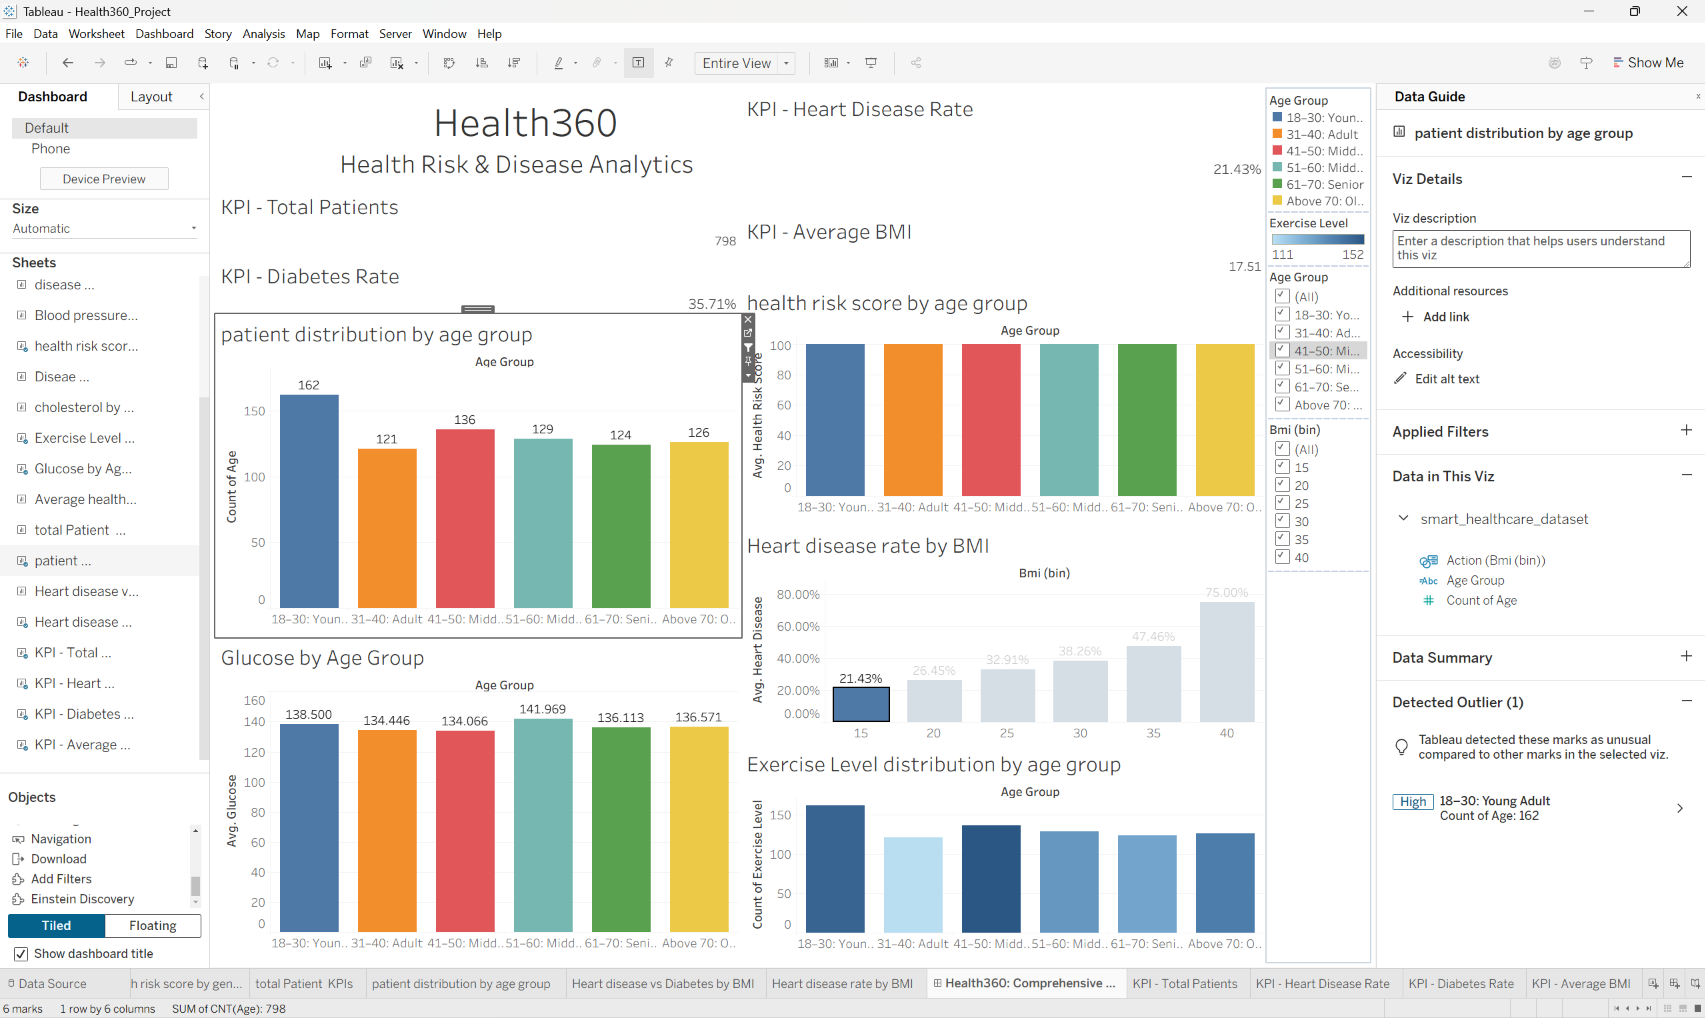

This screenshot's page, from the dashboard's own definition file:
{"tool":"tableau","page":{"name":"Health360: Comprehensive Healthcare Risk & Disease AnalyticsPatient Overview | Disease Patterns | Lifestyle & Health Ris","canvas":[1000,1000],"units":"permille","ordinal":0},"visuals":[{"type":"title","box":[4.5,6,451.5,110.9]},{"type":"worksheet","title":"KPI - Heart Disease Rate","mark":"Text","box":[456.1,6,451.5,138.8]},{"type":"legend","title":"health risk score by age group","param":"[federated.0sowdw81ju79nw16x8nar1e1jq2c].[none:Calculation_1724094253486080:nk]","box":[907.6,6,87.9,138.8]},{"type":"worksheet","title":"KPI - Total Patients","mark":"Text","box":[4.5,116.9,451.5,78.4]},{"type":"worksheet","title":"KPI - Average BMI","mark":"Text","box":[456.1,144.8,451.5,80.7]},{"type":"legend","title":"Exercise Level distribution by age group","param":"[federated.0sowdw81ju79nw16x8nar1e1jq2c].[sum:exercise_level:qk]","box":[907.6,144.8,87.9,61.1]},{"type":"worksheet","title":"KPI - Diabetes Rate","mark":"Text","box":[4.5,195.3,451.5,65.6]},{"type":"filter","title":"patient distribution by age group","param":"[federated.0sowdw81ju79nw16x8nar1e1jq2c].[none:Calculation_1724094253486080:nk]","box":[907.6,205.9,87.9,172.7]},{"type":"worksheet","title":"health risk score by age group","mark":"Automatic","rows":["health_risk_score"],"cols":["Calculation_1724094253486080"],"box":[456.1,225.5,451.5,274.5]},{"type":"worksheet","title":"patient distribution by age group","mark":"Automatic","rows":["age"],"cols":["Calculation_1724094253486080"],"box":[4.5,260.9,451.5,366.1]},{"type":"filter","title":"Heart disease rate by BMI","param":"[federated.0sowdw81ju79nw16x8nar1e1jq2c].[none:Bmi (bin):ok]","box":[907.6,378.6,87.9,172.7]},{"type":"worksheet","title":"Heart disease rate by BMI","mark":"Automatic","rows":["heart_disease"],"cols":["Bmi (bin)"],"box":[456.1,500,451.5,247]},{"type":"worksheet","title":"Glucose by Age Group","mark":"Automatic","rows":["glucose"],"cols":["Calculation_1724094253486080"],"box":[4.5,627.1,451.5,366.9]},{"type":"worksheet","title":"Exercise Level distribution by age group","mark":"Automatic","rows":["exercise_level"],"cols":["Calculation_1724094253486080"],"box":[456.1,747,451.5,247]}]}

Visuals, with their boxes on the dashboard's canvas, which has no fixed pixel size, in thousandths of its width and height (x1, y1, x2, y2). These are canvas units, not pixel positions in the 1705x1018 screenshot, which may show the page scaled, cropped or inside an application window:
title: crop(4, 6, 456, 117)
"KPI - Heart Disease Rate" worksheet (Text marks): crop(456, 6, 908, 145)
"health risk score by age group" legend: crop(908, 6, 996, 145)
"KPI - Total Patients" worksheet (Text marks): crop(4, 117, 456, 195)
"KPI - Average BMI" worksheet (Text marks): crop(456, 145, 908, 226)
"Exercise Level distribution by age group" legend: crop(908, 145, 996, 206)
"KPI - Diabetes Rate" worksheet (Text marks): crop(4, 195, 456, 261)
"patient distribution by age group" filter: crop(908, 206, 996, 379)
"health risk score by age group" worksheet: crop(456, 226, 908, 500)
"patient distribution by age group" worksheet: crop(4, 261, 456, 627)
"Heart disease rate by BMI" filter: crop(908, 379, 996, 551)
"Heart disease rate by BMI" worksheet: crop(456, 500, 908, 747)
"Glucose by Age Group" worksheet: crop(4, 627, 456, 994)
"Exercise Level distribution by age group" worksheet: crop(456, 747, 908, 994)
